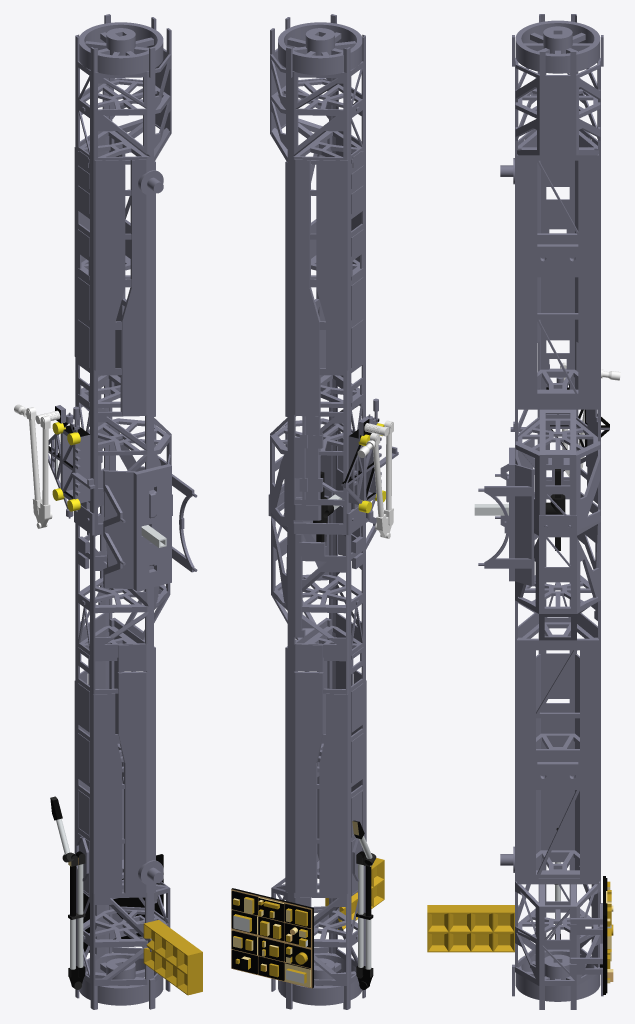
The model's file is jia_2.FBX.
3 views of the same model, side by side, from view 1: azimuth 30°, elevation 25°; view 2: azimuth 150°, elevation 25°; view 3: azimuth 270°, elevation 25° (orthographic).
Parts seen in each view (by area): view 1: Subensamble N52 ISS-1/Subensamble N51 ISS-1/Subensamble N48  (×19); view 2: Subensamble N52 ISS-1/Subensamble N51 ISS-1/Subensamble N48  (×19); view 3: Subensamble N52 ISS-1/Subensamble N51 ISS-1/Subensamble N48  (×20).
Part boxes in pixels (x1,y1,x2,y2): Subensamble N52 ISS-1/Subensamble N51 ISS-1/Subensamble N48  (×19): (14,14,202,1009); Subensamble N52 ISS-1/Subensamble N51 ISS-1/Subensamble N48  (×19): (231,14,398,1009); Subensamble N52 ISS-1/Subensamble N51 ISS-1/Subensamble N48  (×20): (427,14,613,1009).
Bounding box in the file's own units: 556 × 3620 × 662.
